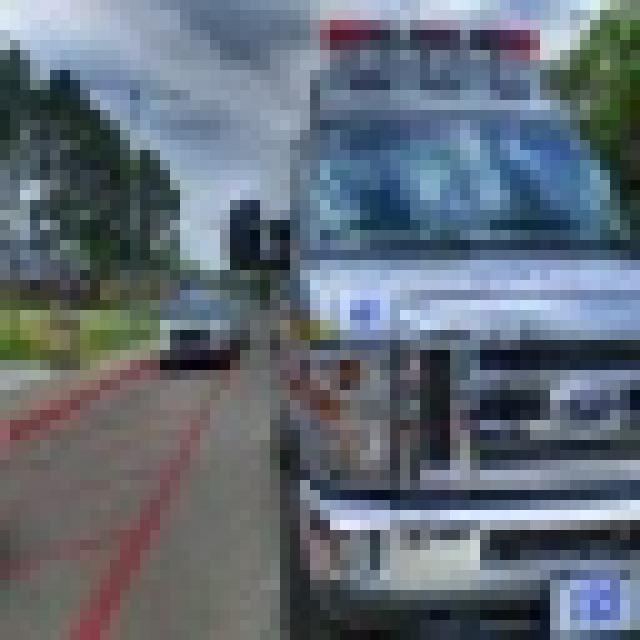Ambulance: (220, 0, 630, 630)
